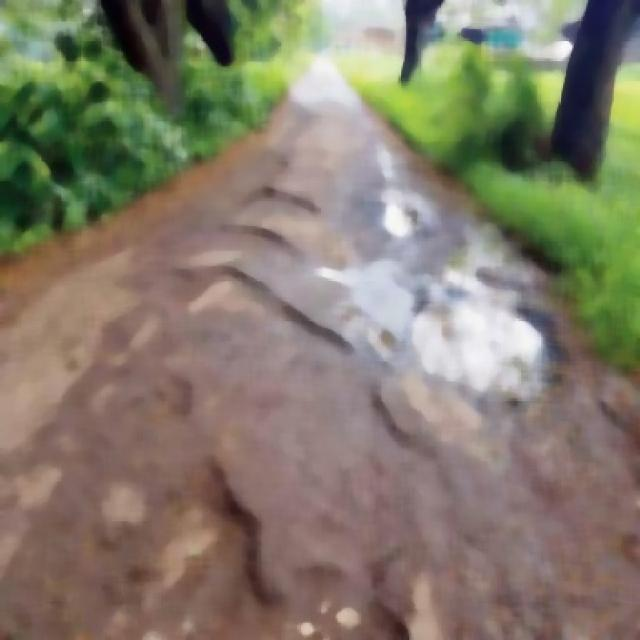Pothole: (407, 280, 558, 425), (366, 181, 437, 253)
